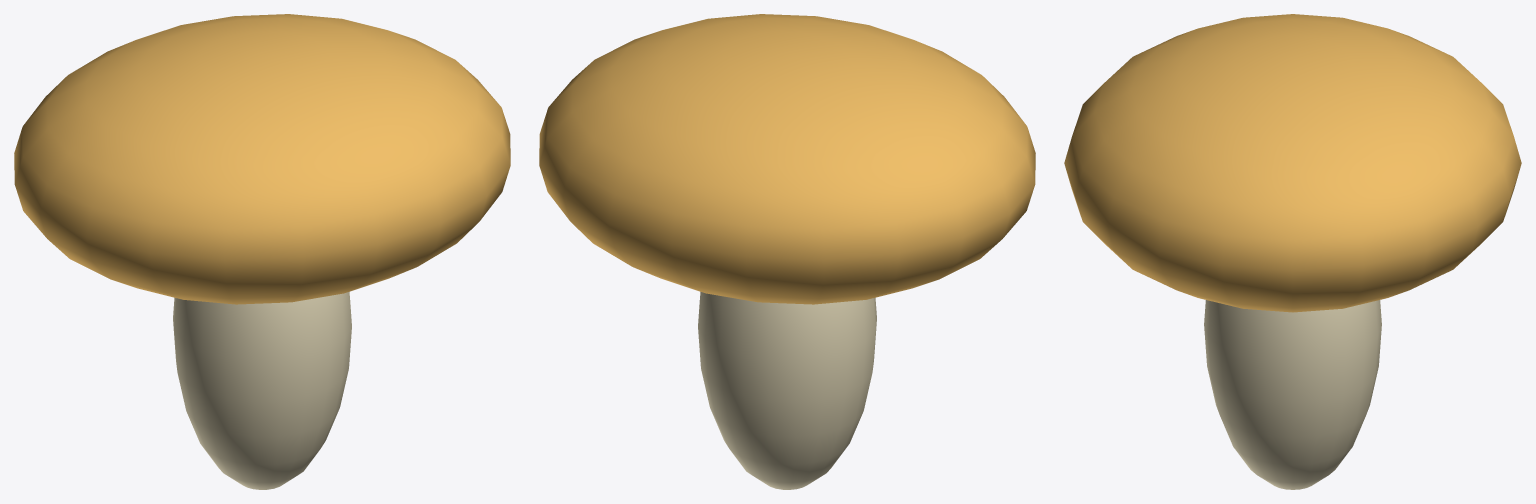
Rendered from food.glb.
The picture shows the model from 3 angles, left to right: view 1: azimuth 30°, elevation 25°; view 2: azimuth 150°, elevation 25°; view 3: azimuth 270°, elevation 25°; orthographic projection.
Parts seen in each view (by area): view 1: FoodCap, FoodStem; view 2: FoodCap, FoodStem; view 3: FoodCap, FoodStem.
Boxes of the visible parts, left/top/right/bottom form: FoodCap: left=14, top=14, right=510, bottom=304; FoodStem: left=173, top=292, right=351, bottom=489; FoodCap: left=539, top=14, right=1035, bottom=304; FoodStem: left=698, top=292, right=876, bottom=489; FoodCap: left=1064, top=14, right=1521, bottom=312; FoodStem: left=1204, top=300, right=1381, bottom=489.
Bounding box in the file's own units: 0.4 × 0.37 × 0.36.
